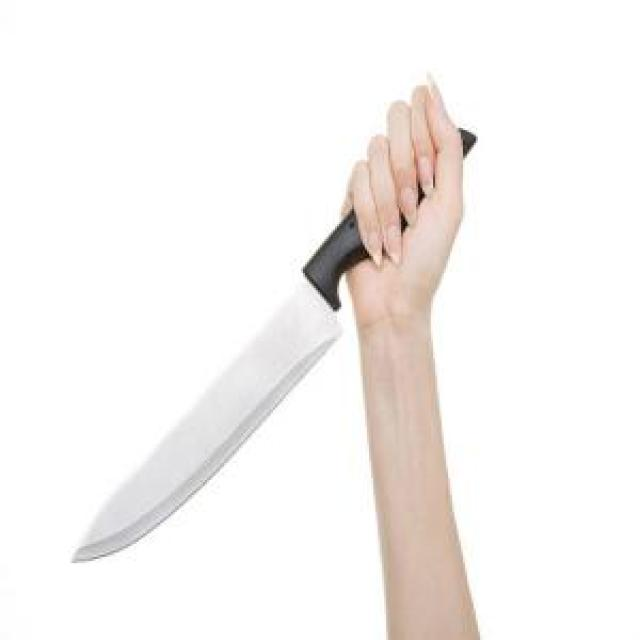knife: (64, 72, 508, 574)
